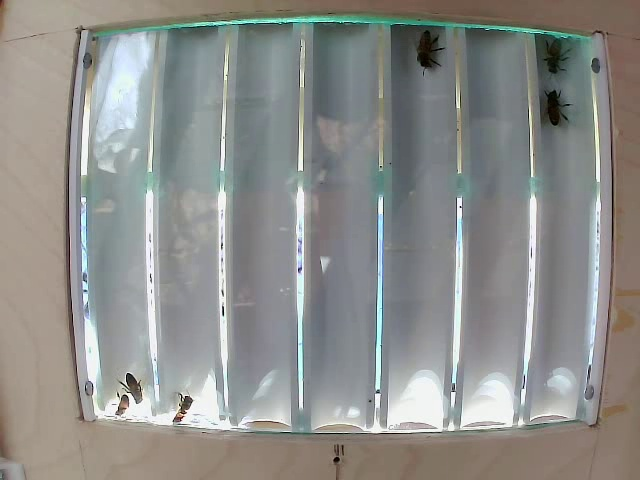bee: (536, 21, 571, 73), (529, 79, 564, 125), (417, 28, 450, 75), (167, 387, 199, 434), (107, 367, 154, 397)
